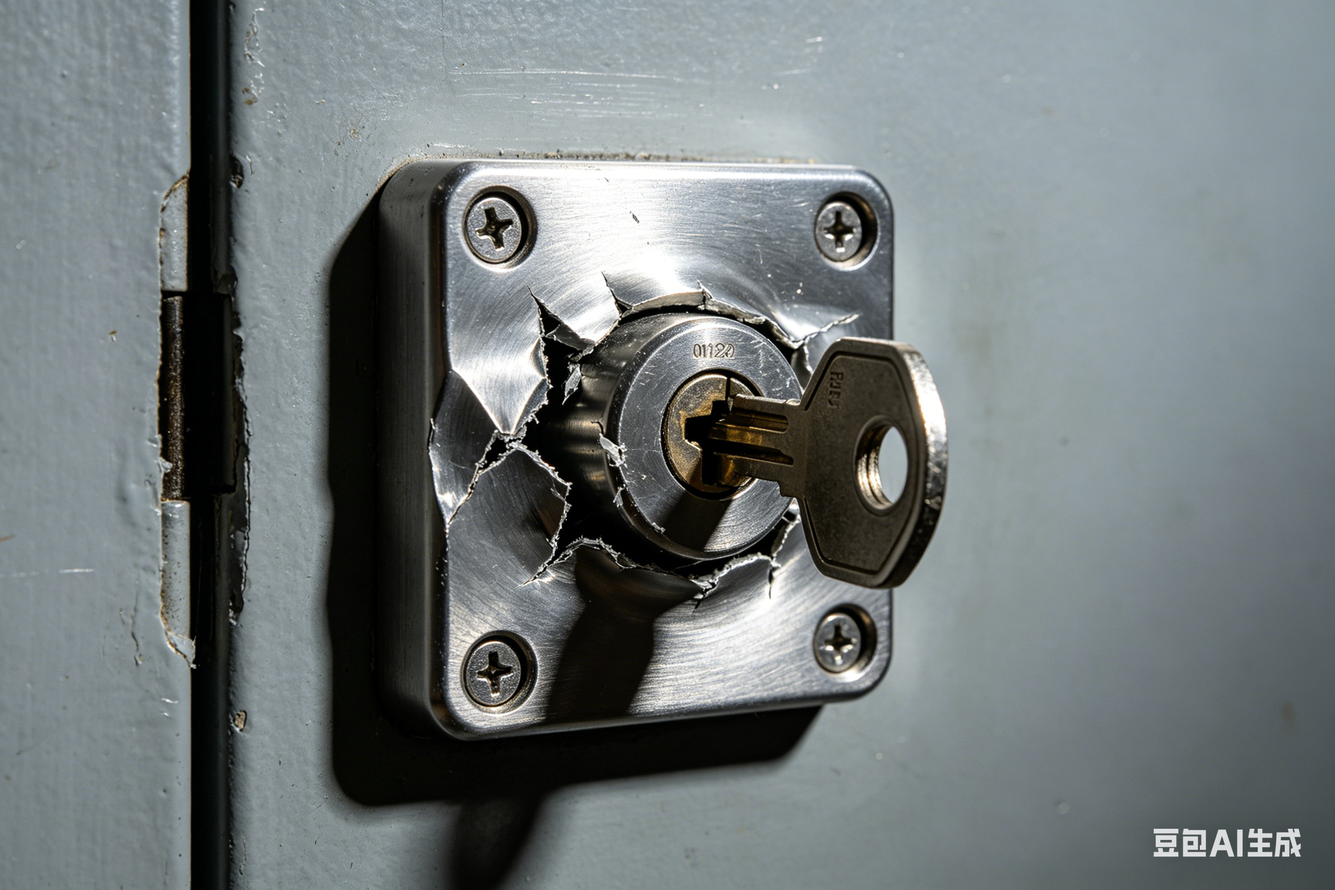BadLock: (418, 171, 674, 613)
